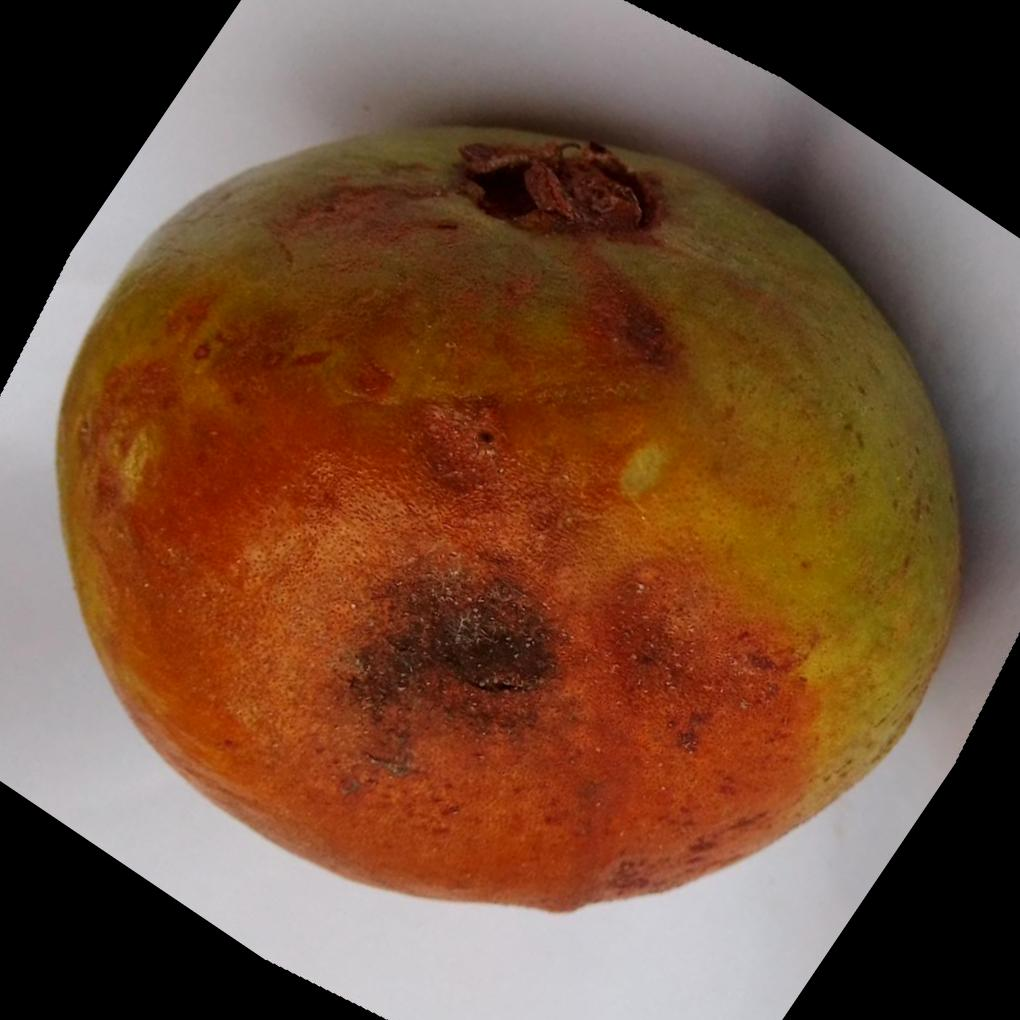FreshOrange: (48, 121, 960, 913)
